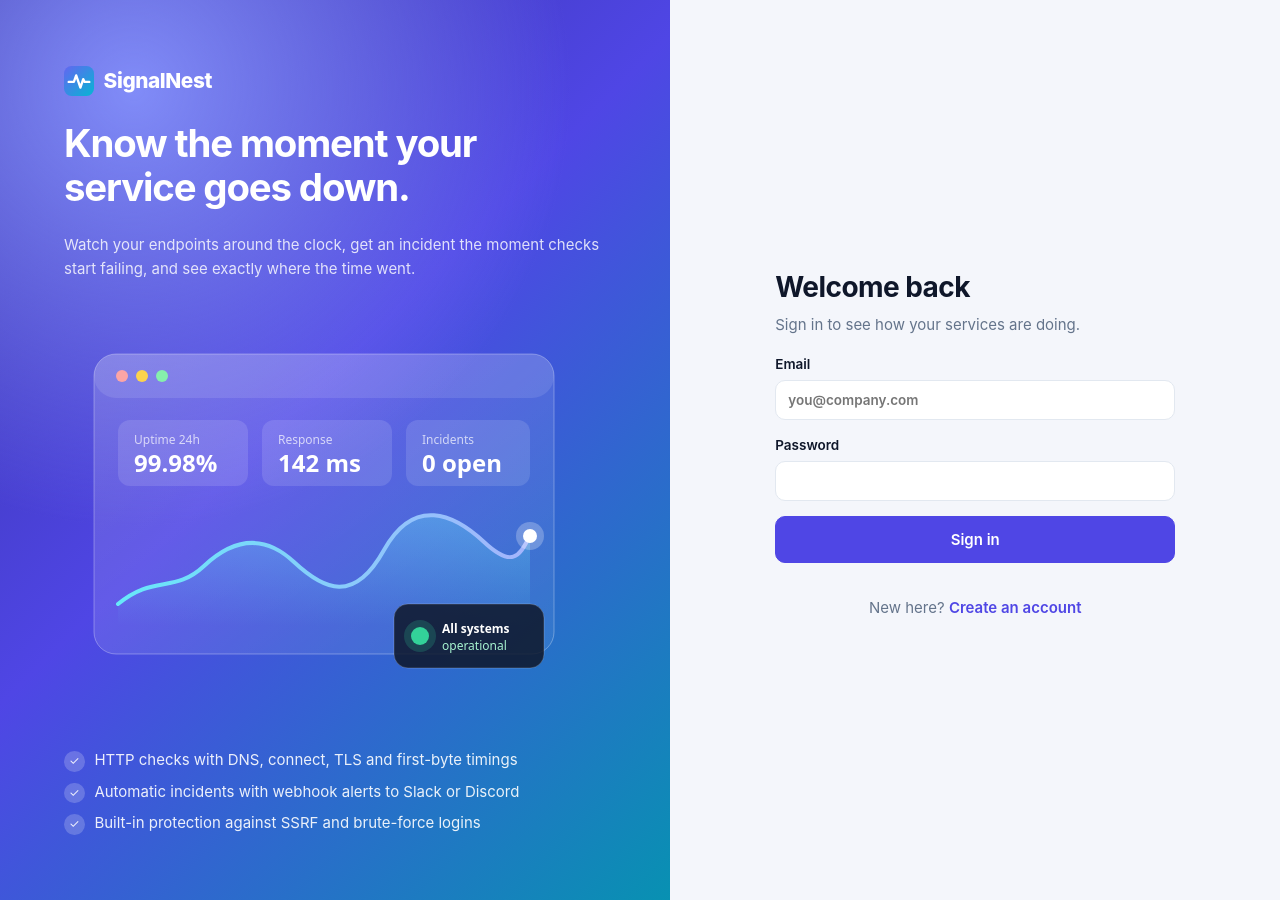
Test: fixes found by reading and measuring the app › after signing in, goes back to the page the visitor wanted
The image size is (1280, 900).
In the field labelled "Email": (975, 400) [775, 380, 1175, 420], type "a@example.com"
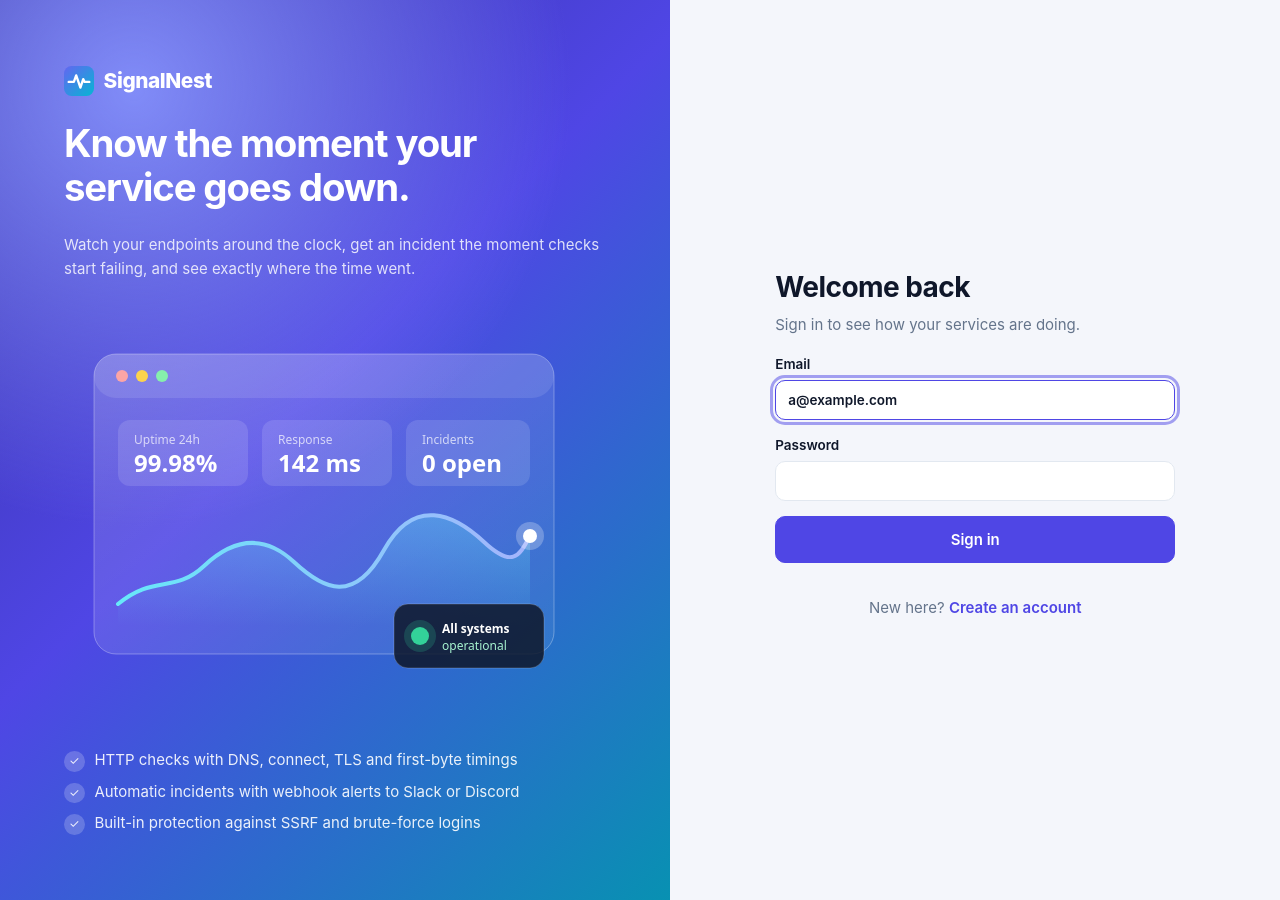
In the password field labelled "Password": (975, 481) [775, 461, 1175, 501], type "correct-horse-battery"
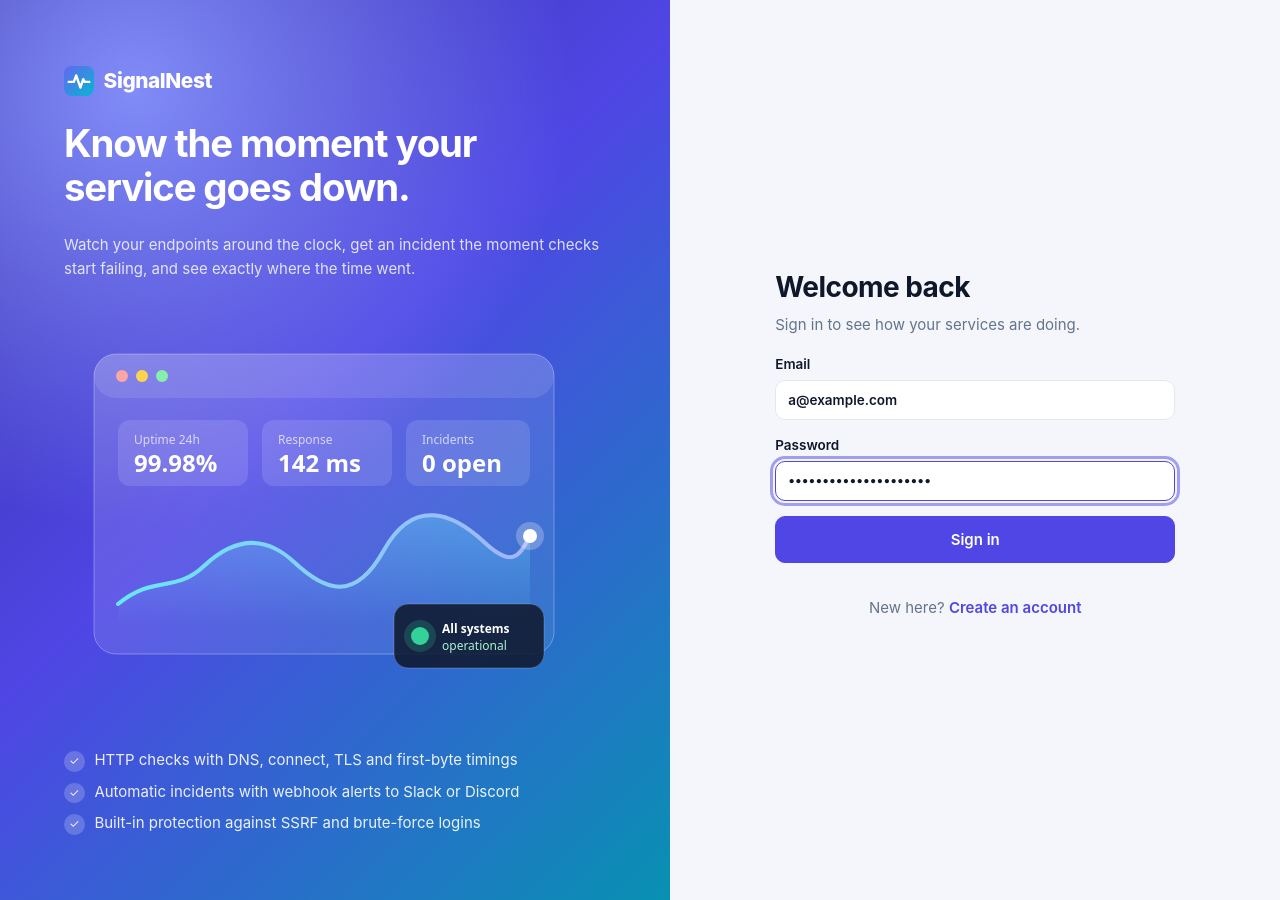
Click the button "Sign in": (975, 539) [775, 516, 1175, 563]
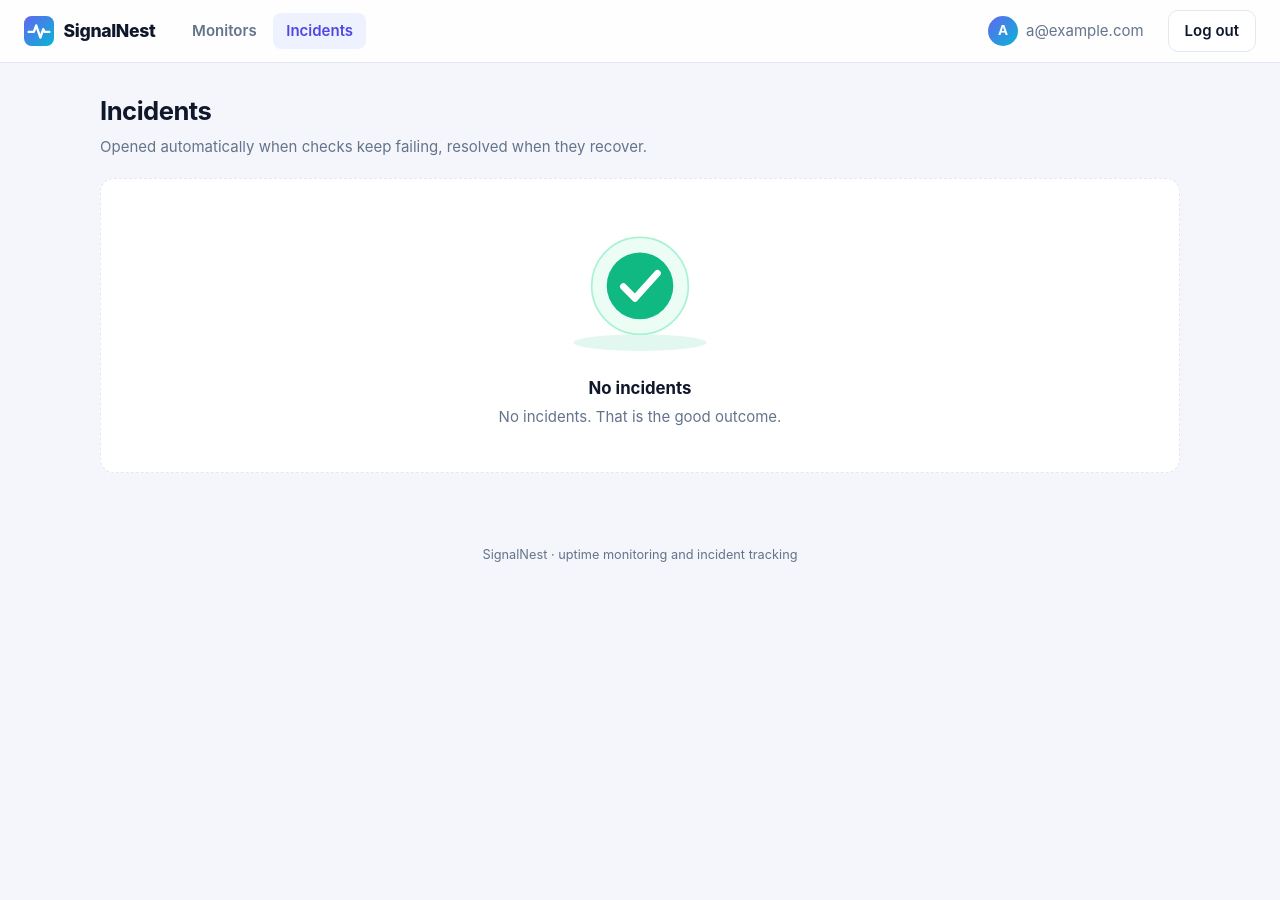
Now the heading "Incidents" is shown, box [100, 95, 211, 126]
